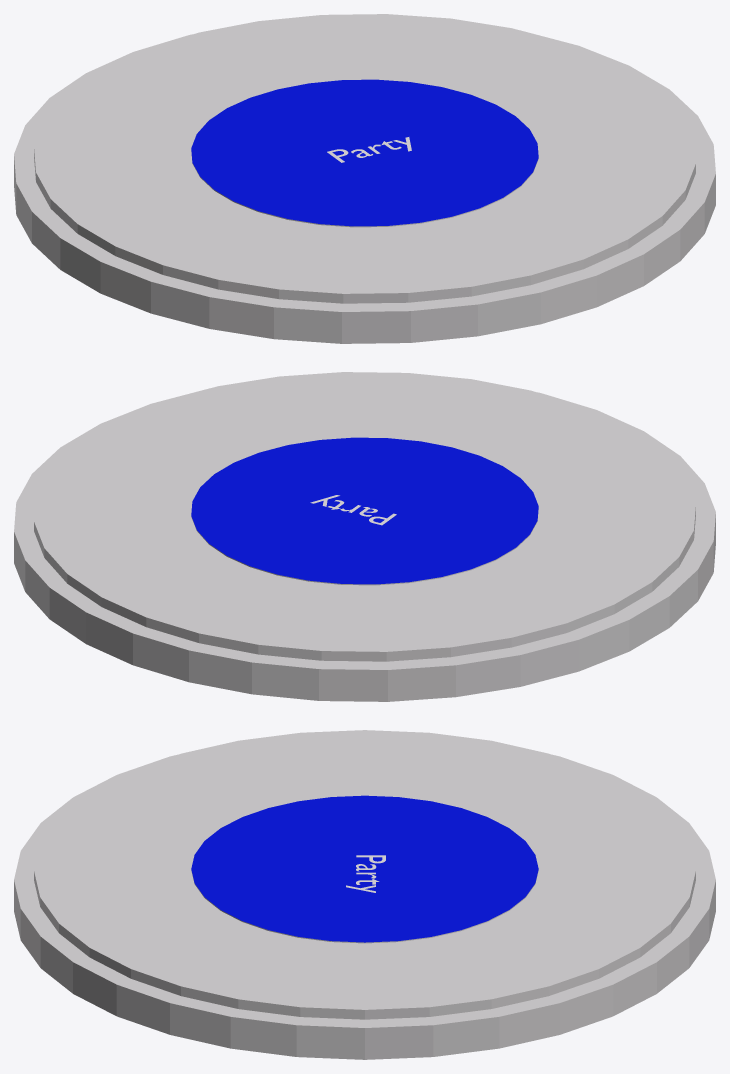
File: SwordFightStage.fbx
3 renders of one model, top to bottom at view 1: azimuth 30°, elevation 25°; view 2: azimuth 150°, elevation 25°; view 3: azimuth 270°, elevation 25°, orthographic.
Parts seen in each view (by area): view 1: 円柱; view 2: 円柱; view 3: 円柱.
Boxes of the visible parts, box(x1,y1,x2,y2) form: 円柱: box(14, 14, 715, 343); 円柱: box(14, 372, 715, 701); 円柱: box(14, 730, 715, 1059).
Bounding box in the file's own units: 4000 × 268 × 4000.
